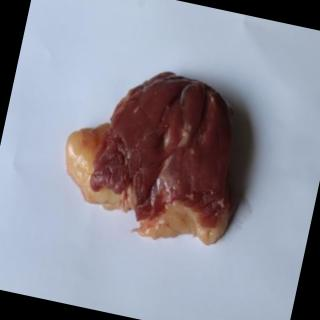Daging Sapi: (52, 51, 264, 257)
